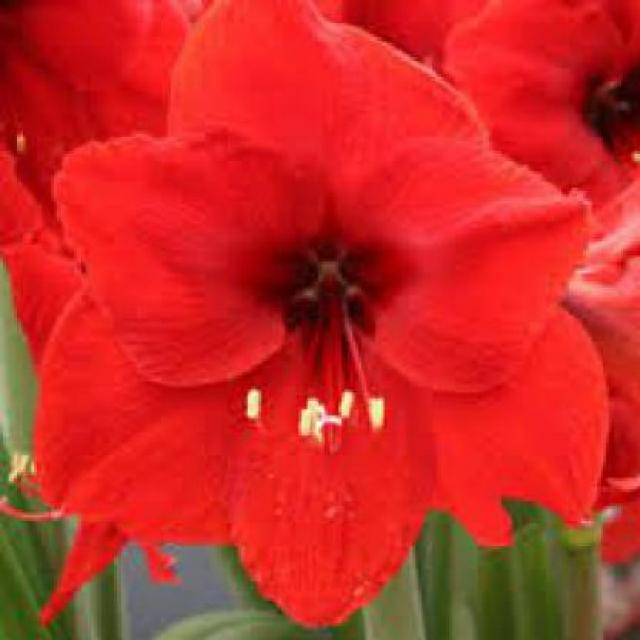Flower: (34, 3, 609, 632), (299, 387, 387, 441), (245, 389, 265, 422)
